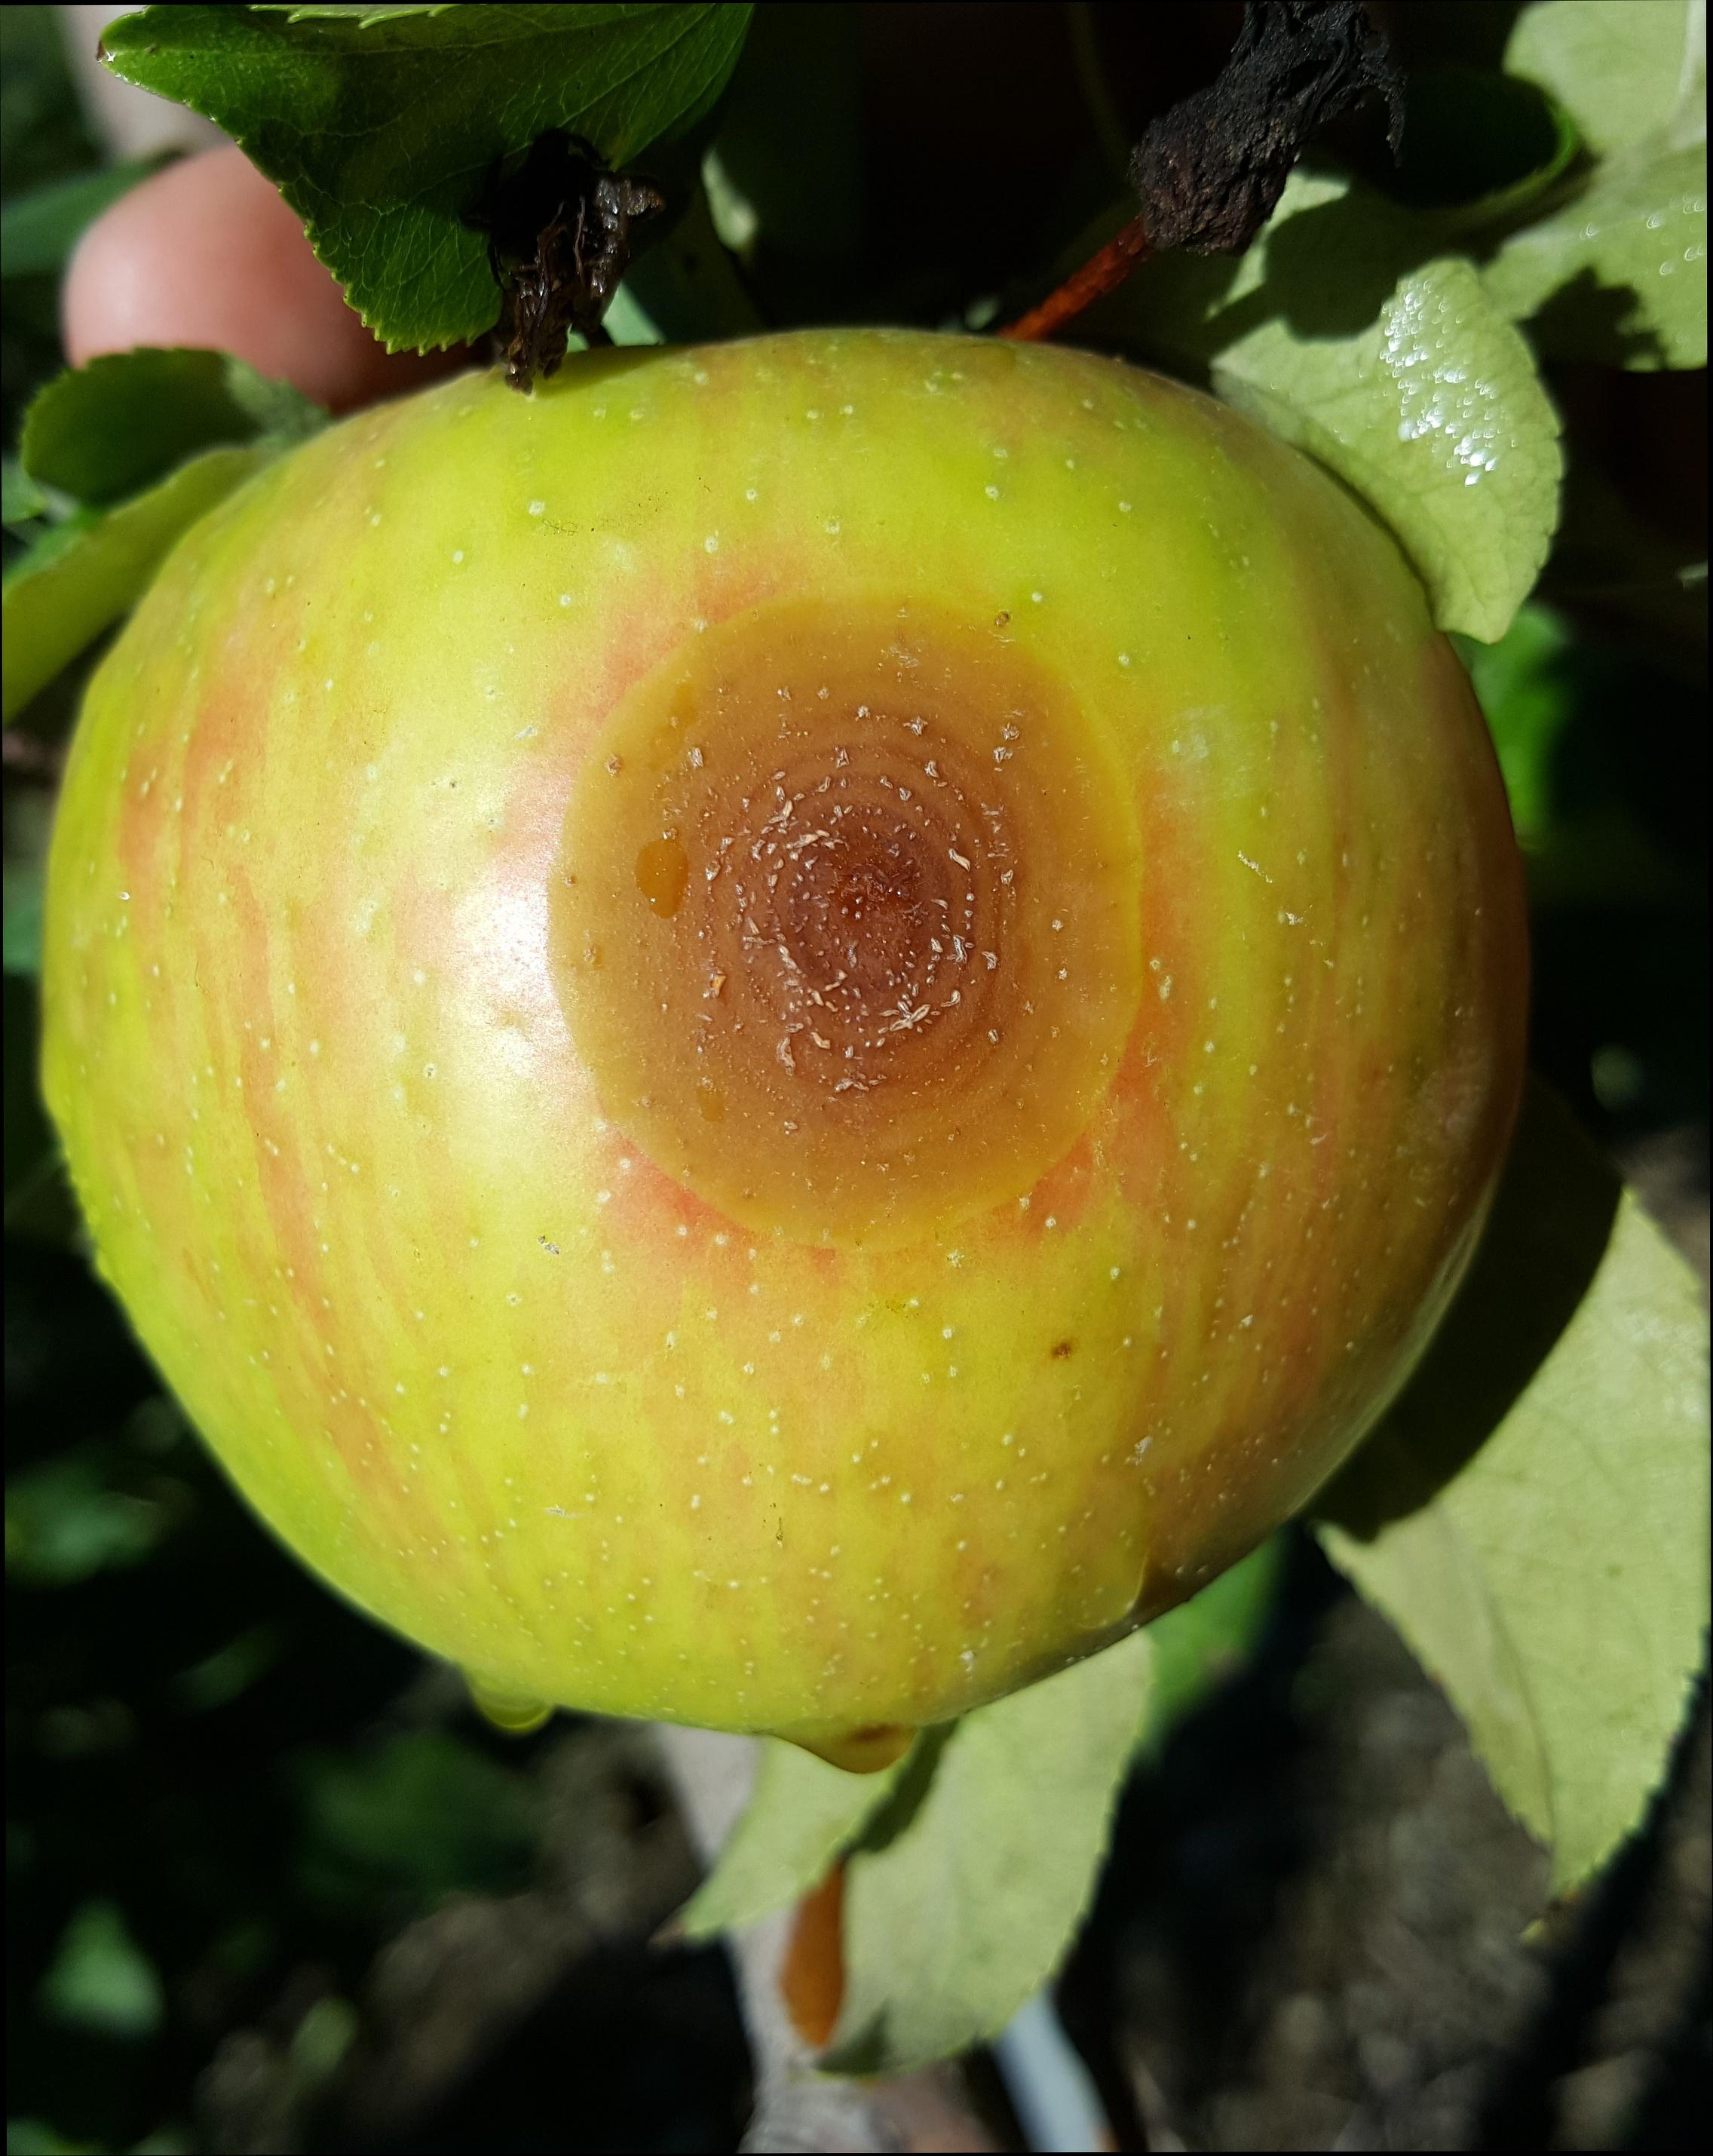rotten apple: (16, 308, 1578, 1732)
